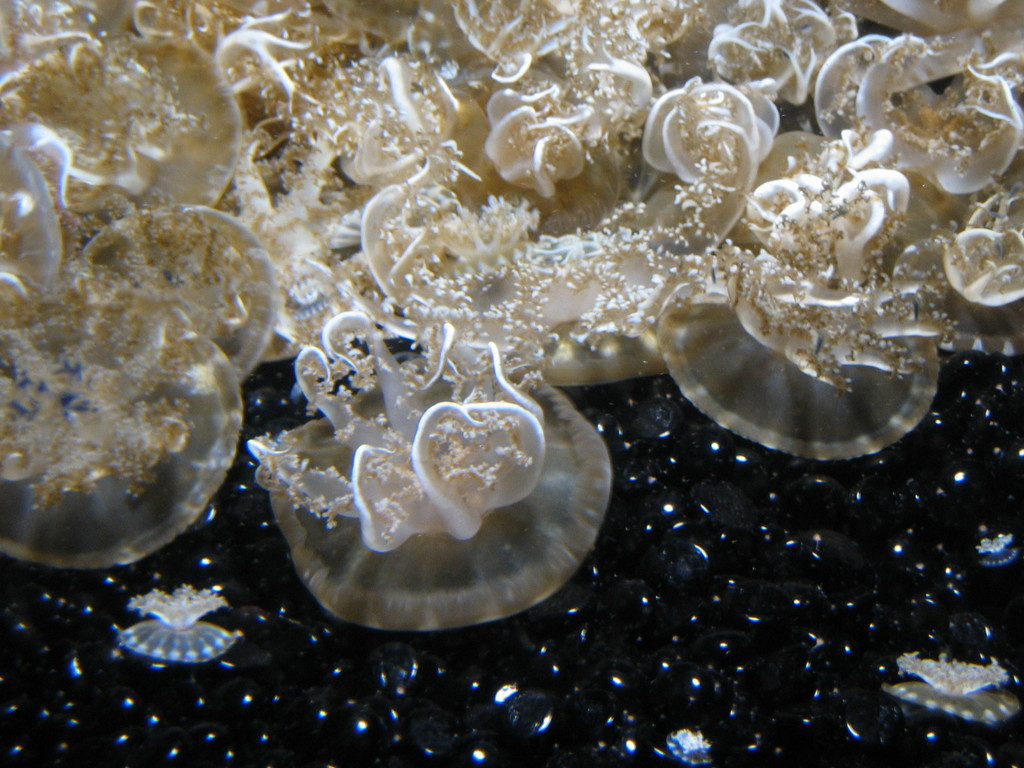Jellyfish: (0, 0, 1023, 574), (245, 318, 611, 631), (115, 584, 238, 668), (880, 658, 1019, 732)
